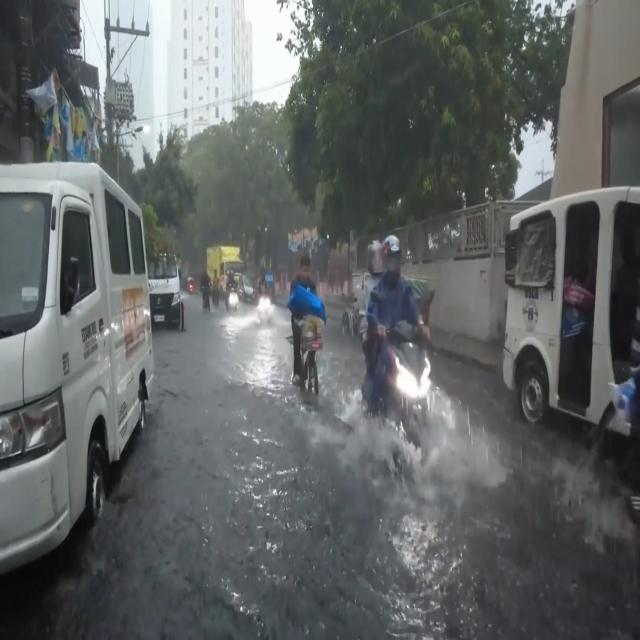half: (381, 236, 404, 282), (365, 239, 383, 278)
